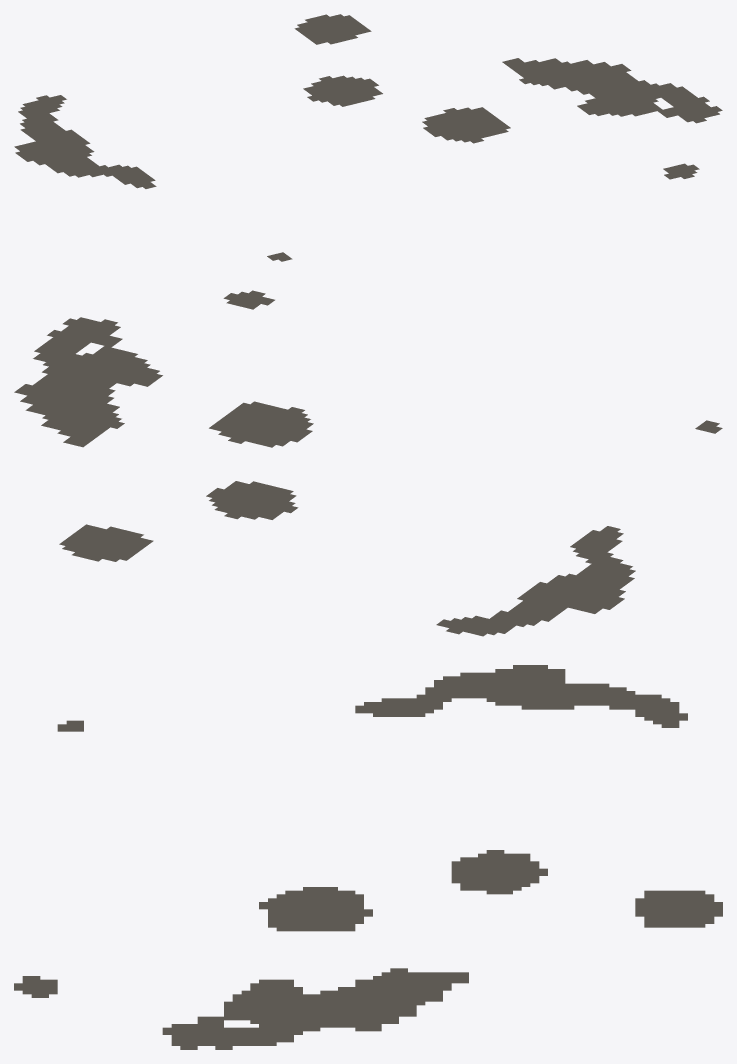
File: Isl-flat3-NoBuildArea.fbx
3 views of the same model, one above another, from view 1: azimuth 30°, elevation 25°; view 2: azimuth 150°, elevation 25°; view 3: azimuth 270°, elevation 25° (orthographic). The views are drawn at different scales.
Visible parts, largest first — view 1: Isl-flat3-NoBuildArea; view 2: Isl-flat3-NoBuildArea; view 3: Isl-flat3-NoBuildArea.
Boxes of the visible parts, box(x1,y1,x2,y2) form: Isl-flat3-NoBuildArea: box(14, 14, 722, 261); Isl-flat3-NoBuildArea: box(14, 290, 722, 636); Isl-flat3-NoBuildArea: box(14, 665, 722, 1049).
Bounding box in the file's own units: 104 × 0 × 81.
